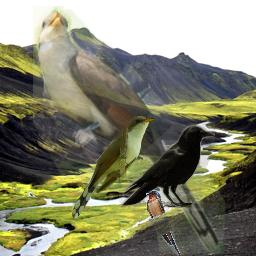Crow: (119, 123, 215, 211)
Cuckoo: (33, 6, 225, 254), (72, 116, 155, 218)
Swallow: (146, 190, 181, 256)
